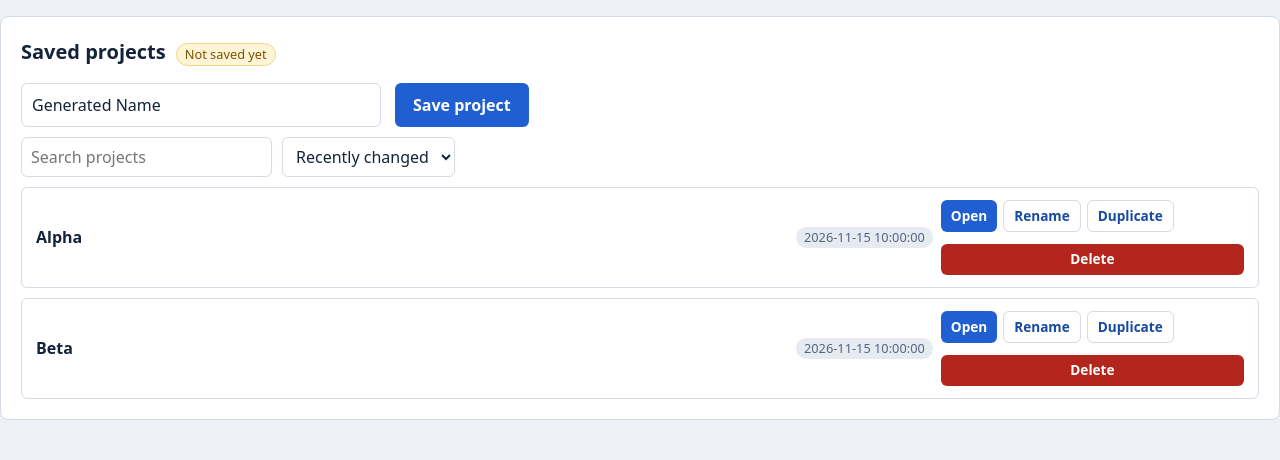
Test case: Projects › suggests the generated name and saves a new project
Replace the text in the field named "Project name" with "  My Shop " at (201, 105), box [21, 83, 381, 127]
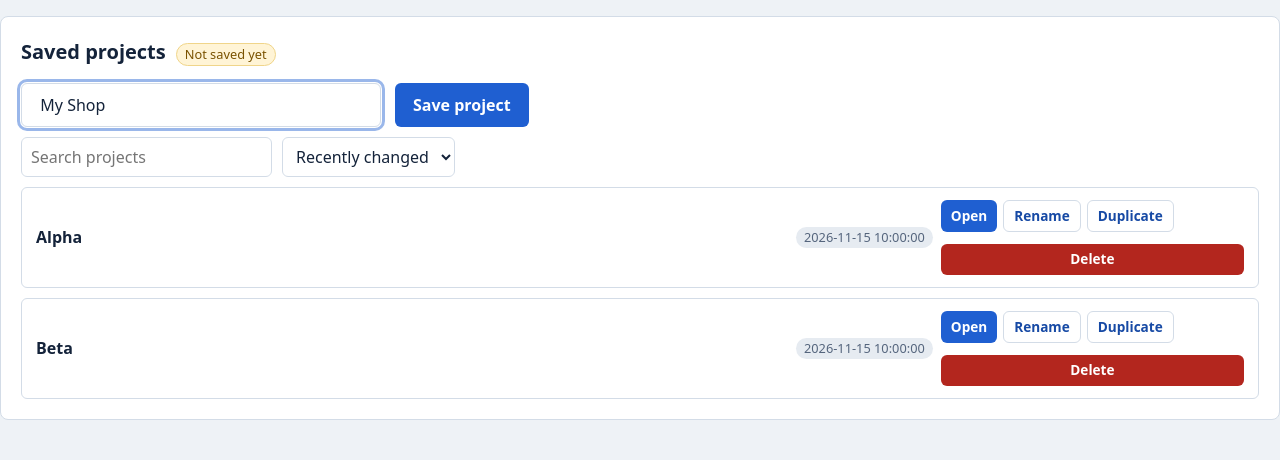
Click the button "Save project" at (462, 105), box [395, 83, 529, 127]
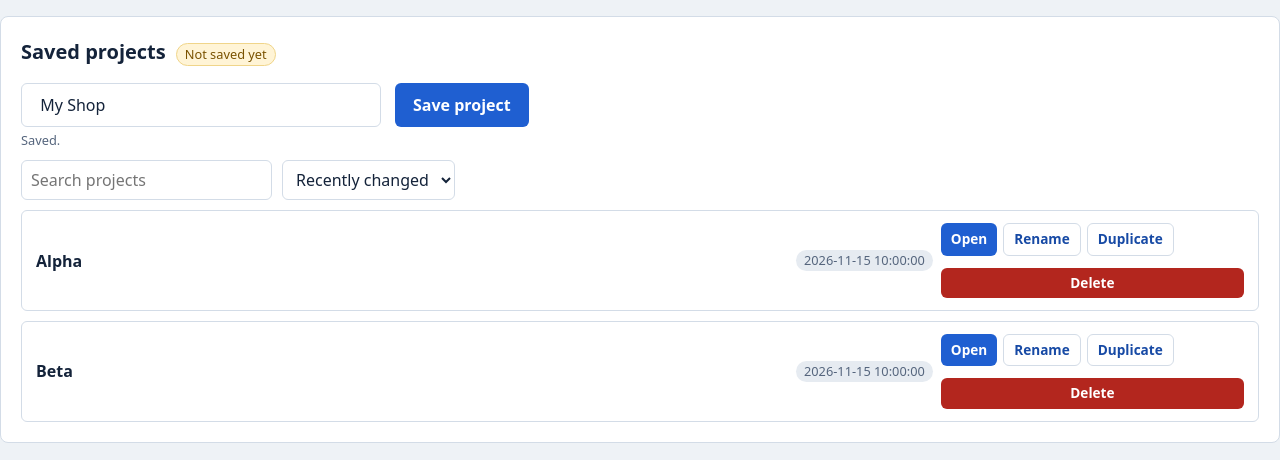
Result: the text "Saved." is shown at [21, 131, 60, 149]
